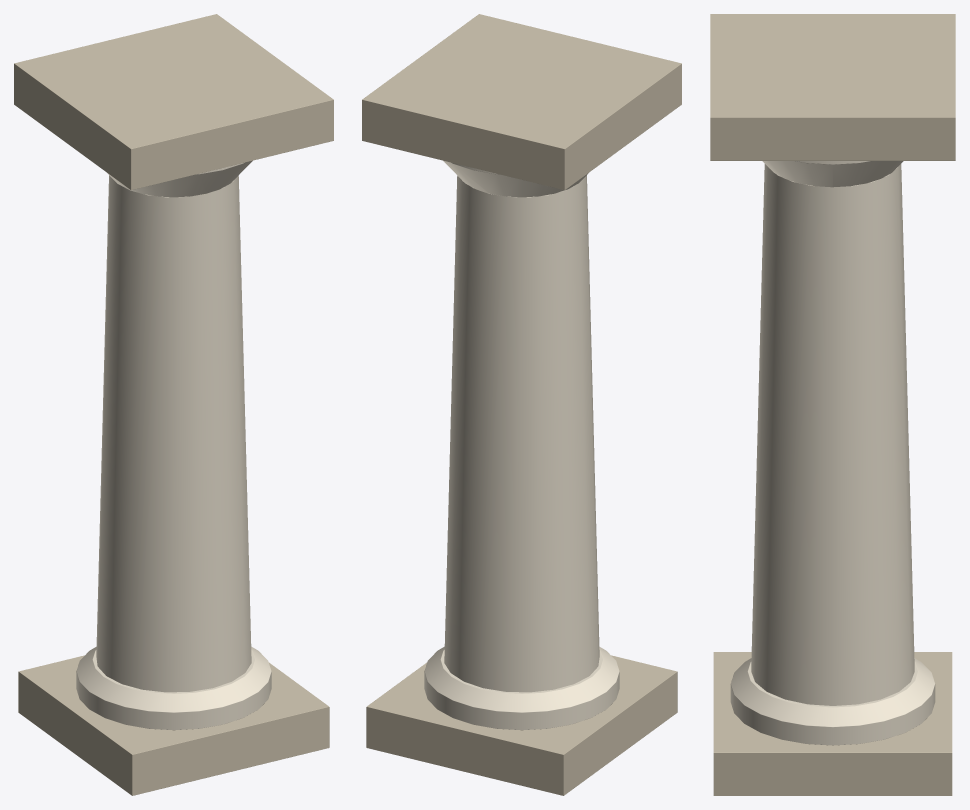
Rendered from coluna_grega.glb.
3 renders of one model, left to right at view 1: azimuth 30°, elevation 25°; view 2: azimuth 150°, elevation 25°; view 3: azimuth 270°, elevation 25°, orthographic. The views are drawn at different scales.
Visible parts, largest first — view 1: Coluna; view 2: Coluna; view 3: Coluna.
Boxes of the visible parts, <box> form: Coluna: <box>14,14,333,795</box>; Coluna: <box>362,14,681,795</box>; Coluna: <box>710,14,955,795</box>.
Size of the model in its own units: 0.72 by 2.2 by 0.72.
